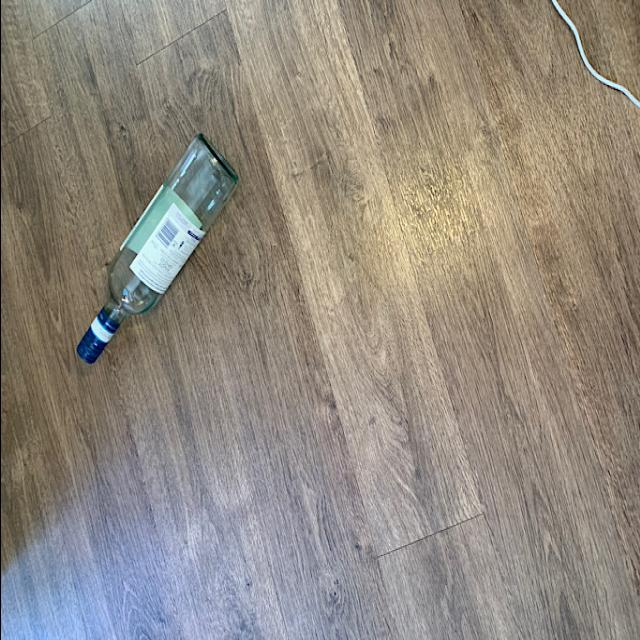Glass Bottle: (71, 130, 239, 369)
